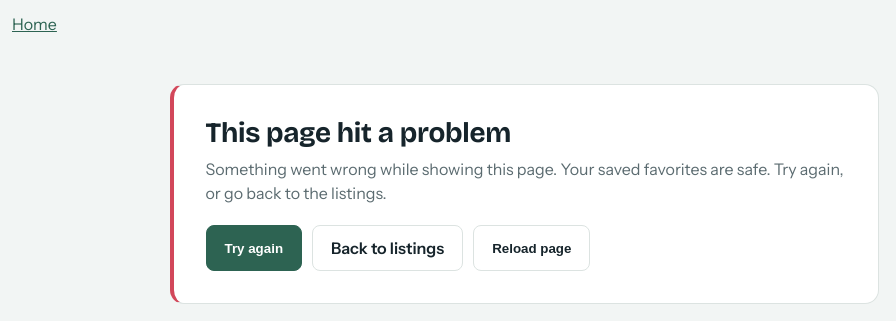
Scenario: navigating to another route clears the error
Expected: the heading "This page hit a problem" is shown, [206,116,511,150]
Click the link "Home": coordinates (34, 24) [12,14,57,34]
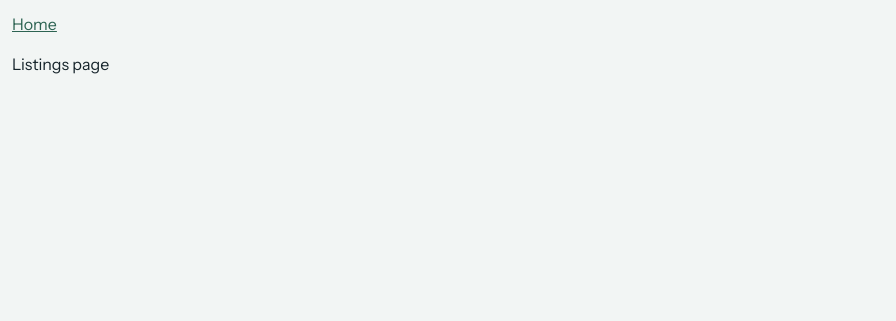
Expected: the text "Listings page" is shown, [12,54,109,74]
